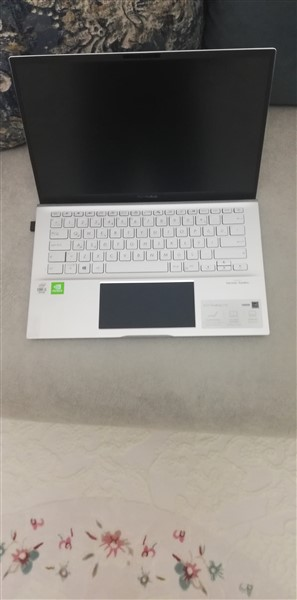laptop: (13, 39, 286, 350)
